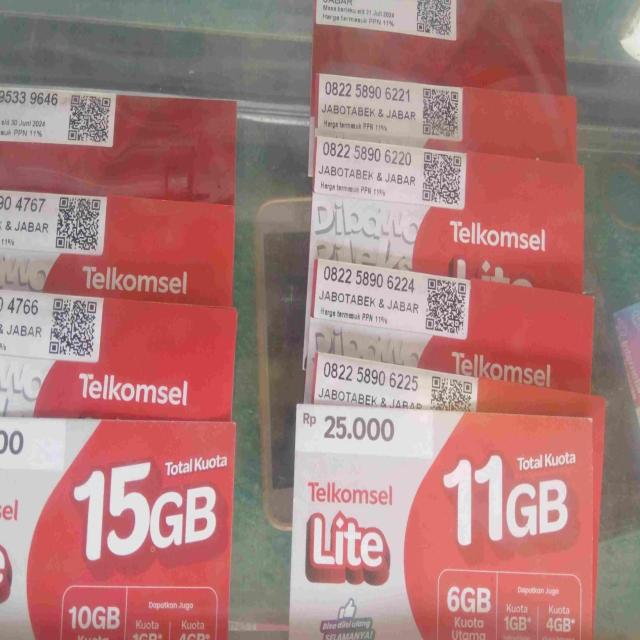Telkomsel: (295, 402, 591, 640), (310, 74, 590, 260), (0, 420, 229, 640), (300, 258, 596, 414), (0, 81, 237, 200), (1, 305, 232, 419), (0, 200, 234, 305), (313, 0, 566, 71)
